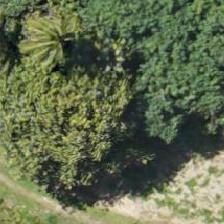coconut_tree: (2, 0, 92, 82)
